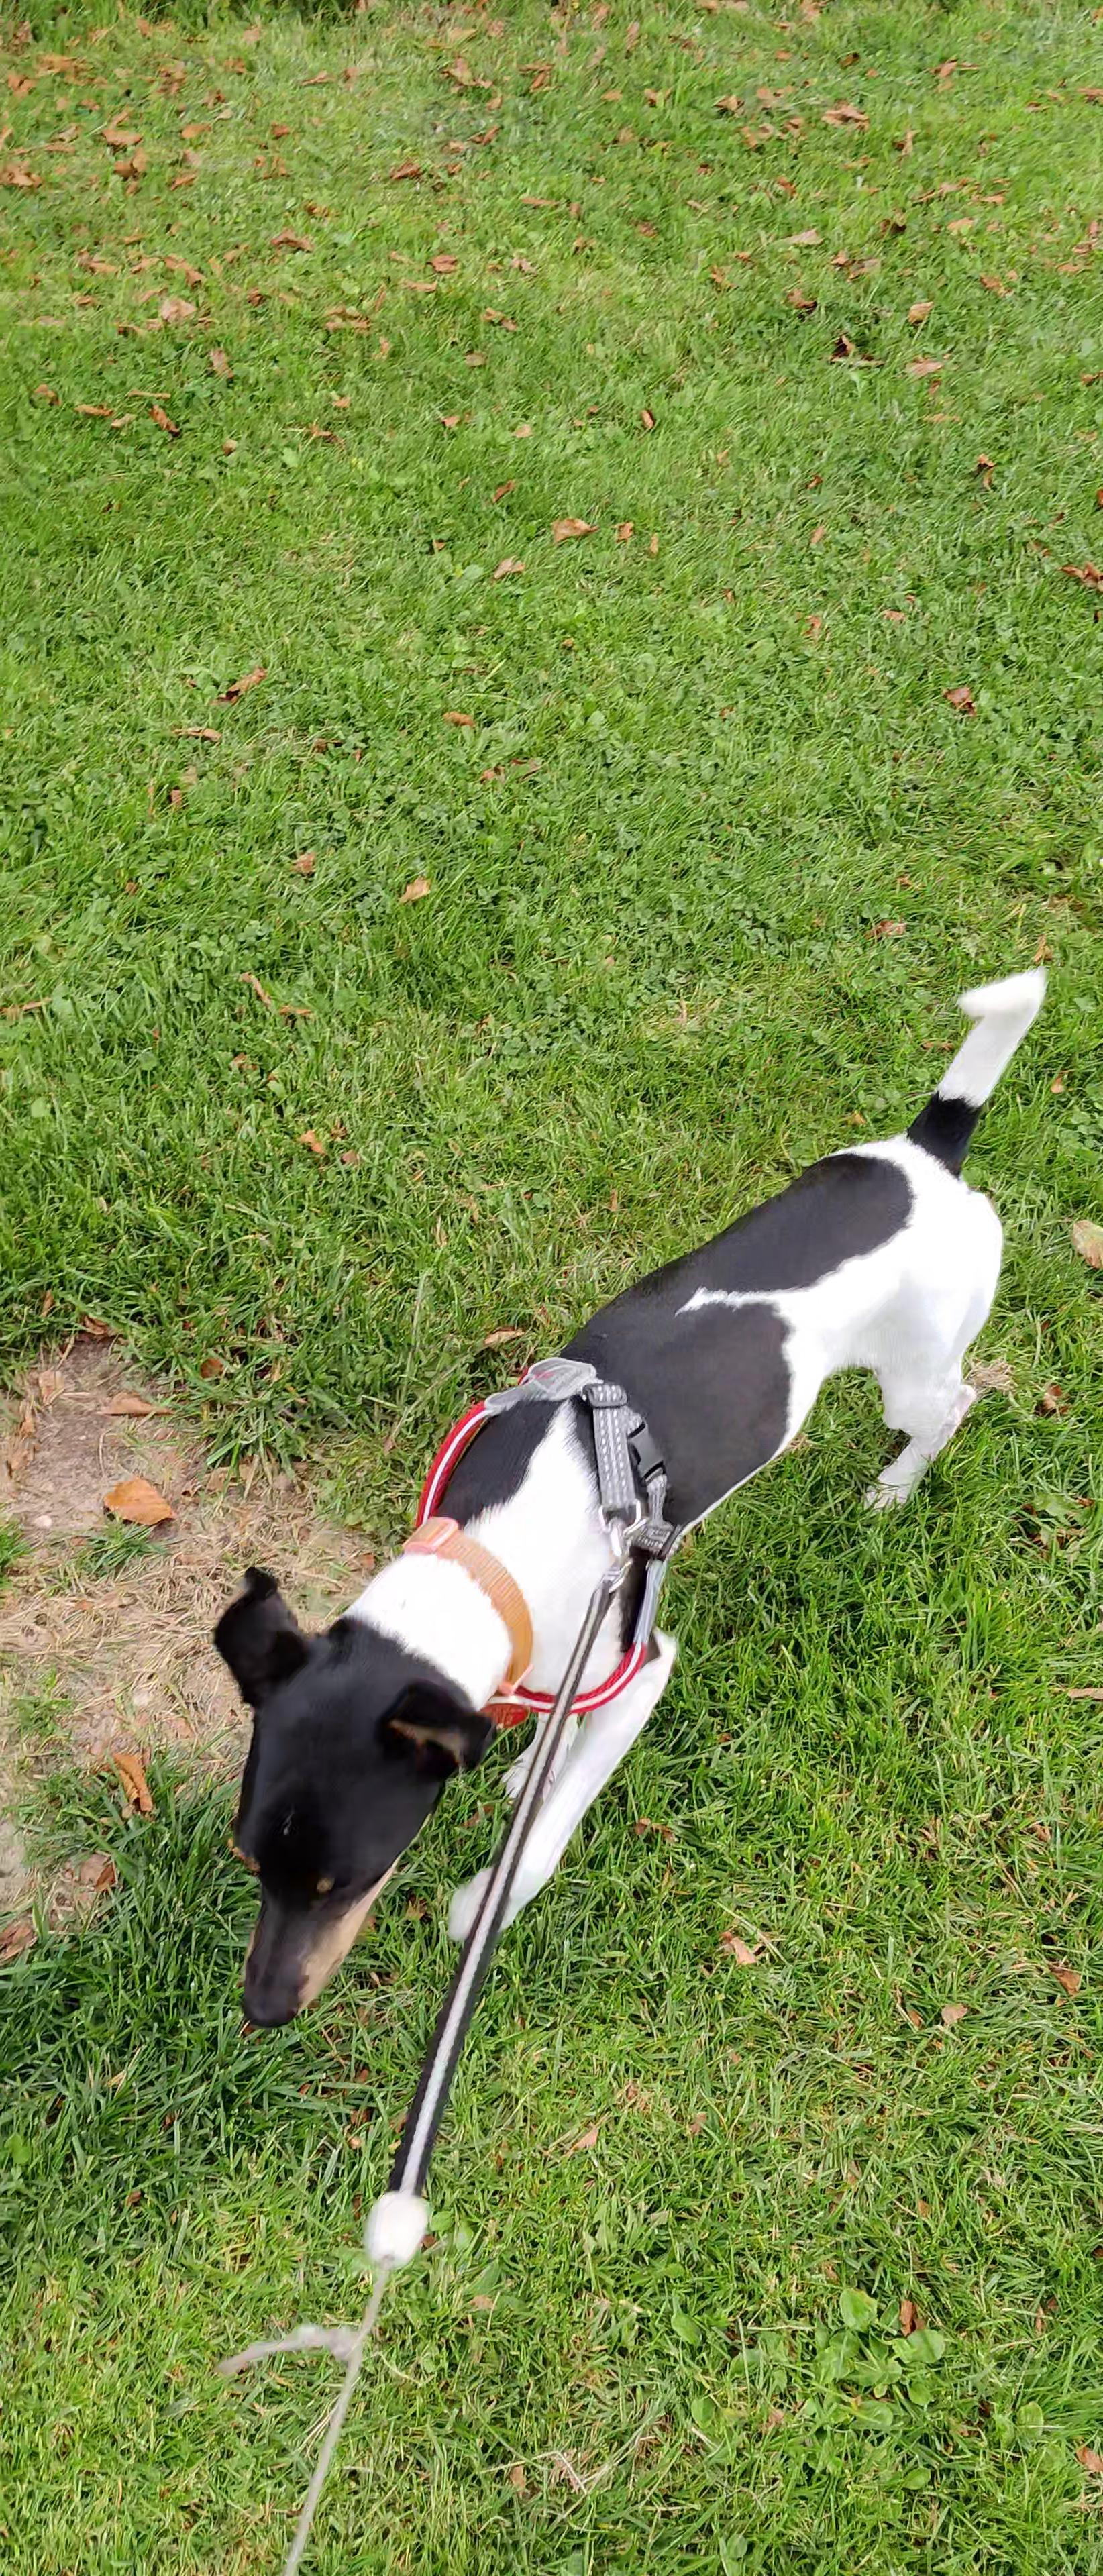Dog: (209, 956, 1059, 2037)
